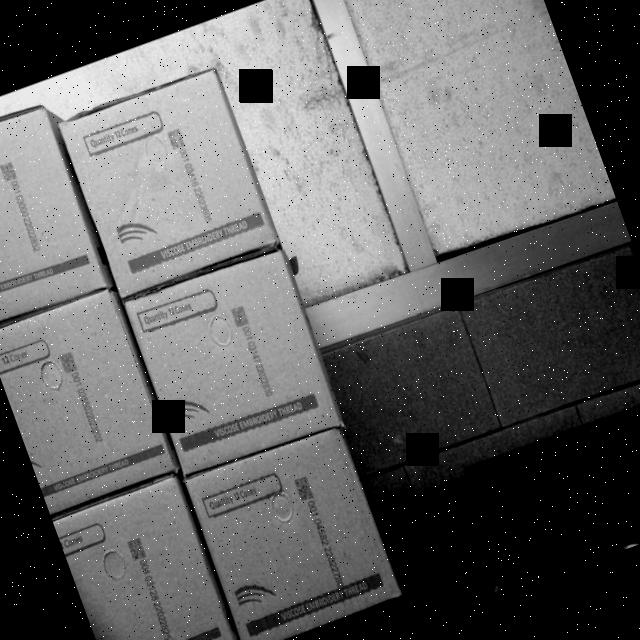box: (57, 64, 280, 298), (124, 248, 341, 478), (186, 421, 399, 640), (0, 287, 178, 520), (52, 471, 248, 640), (0, 103, 108, 329)
